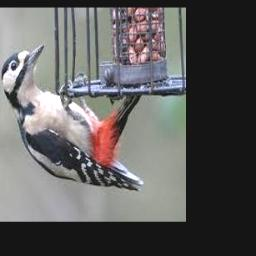Woodpecker: (1, 44, 143, 192)
